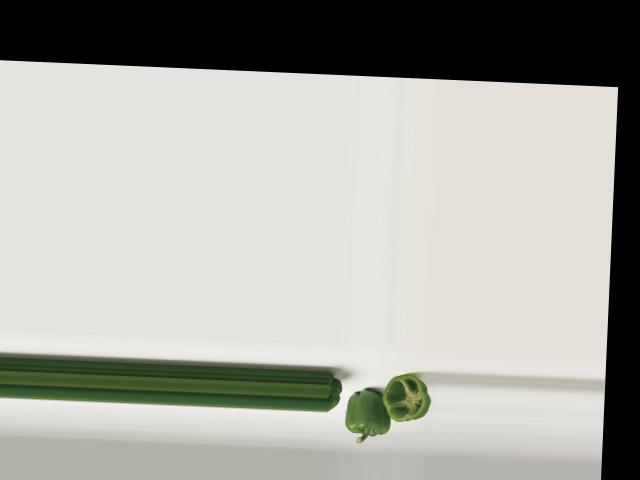bell_pepper: (378, 369, 434, 428)
